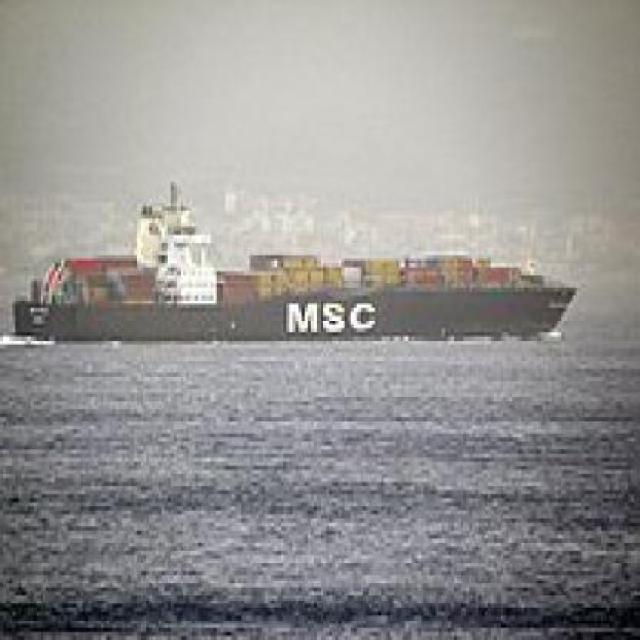container: (13, 183, 584, 354)
